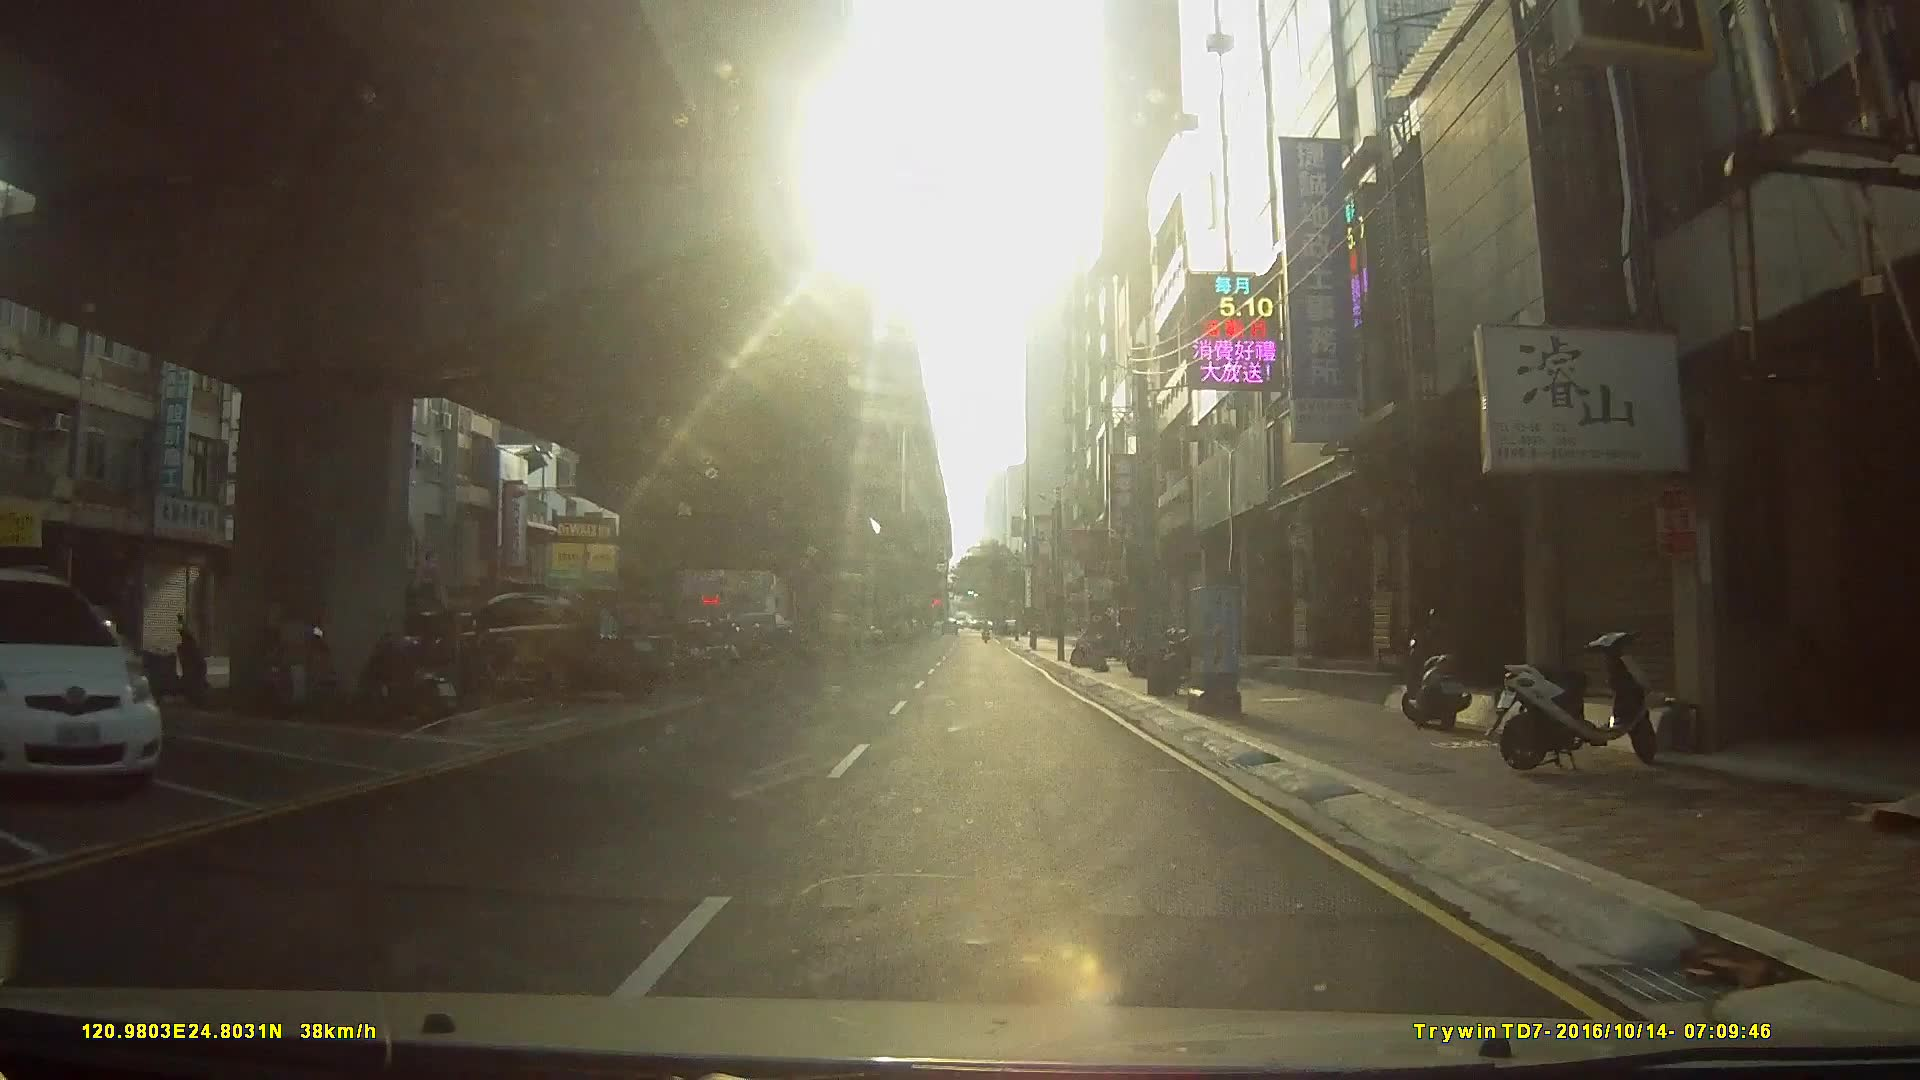vehicle: (0, 568, 164, 793), (439, 585, 676, 699), (615, 618, 738, 684)
